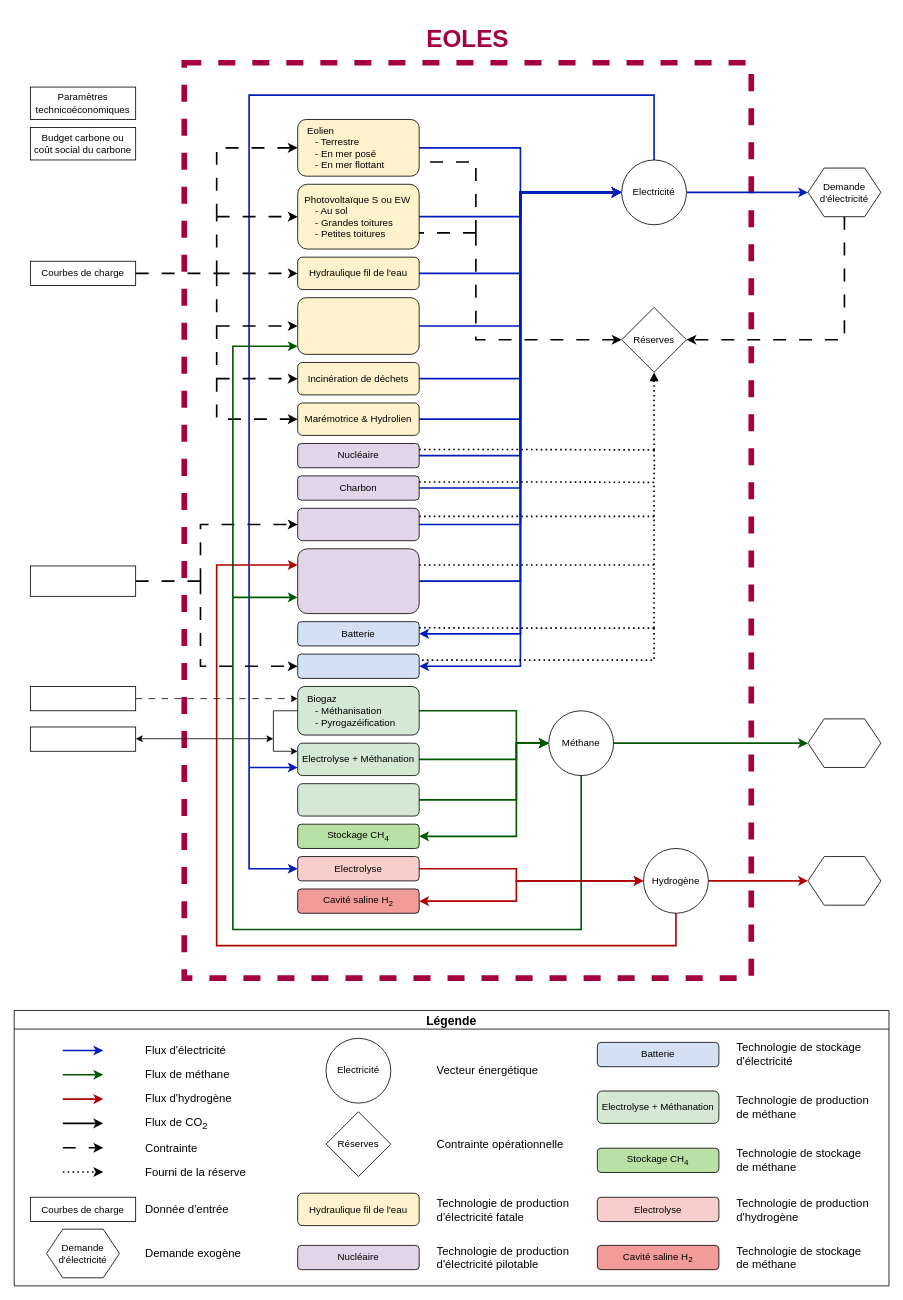
This 903x1300 diagram has some shape labels left out. The centre of each missing label's shape, as x and y in pixels:
Afflux hydrauliques, stock et débit minimal: (x=83, y=580)
Biomasse disponible: (x=83, y=698)
CO2 dans l'industrie: (x=83, y=738)
Cogénération - Biomasse - Géothermie - Turbine à gaz: (x=358, y=325)
Demande d'hydrogène: (x=844, y=880)
Demande de méthane: (x=844, y=742)
Hydraulique barrage: (x=358, y=524)
Importation de gaz naturel: (x=358, y=799)
STEP: (x=358, y=665)
Turbines à gaz - CH 4 cycle ouvert - CH 4 cycle combiné - H 2 cycle combiné: (x=358, y=581)
